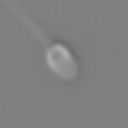normal: (1, 1, 51, 47)
